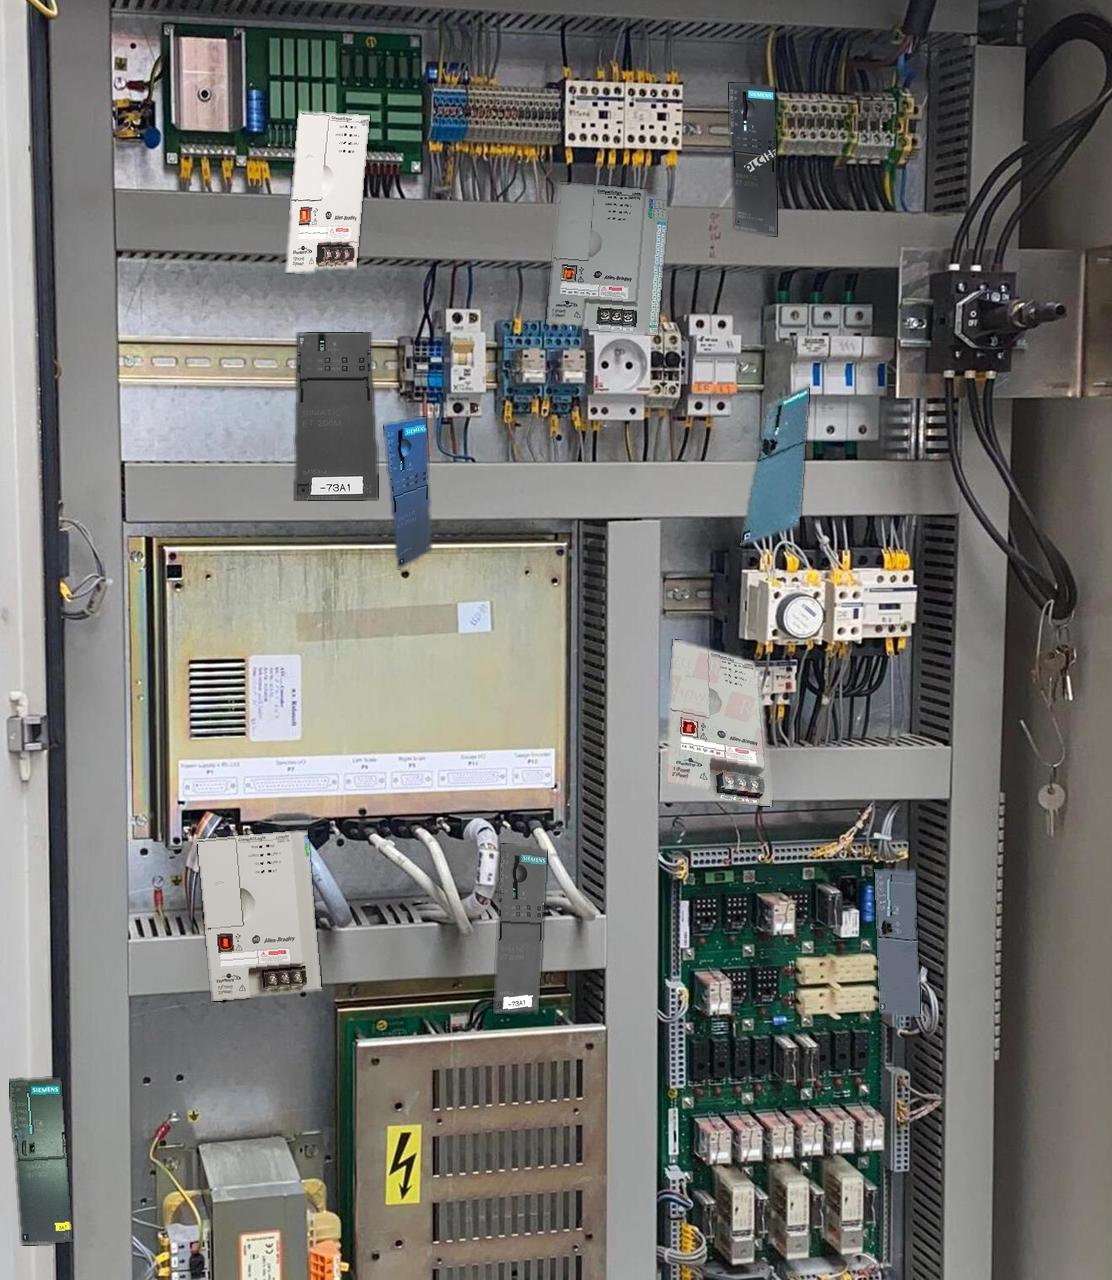AllenBradley: (197, 830, 321, 1000), (546, 183, 667, 334), (666, 639, 771, 807), (286, 111, 369, 272)
Siemens: (740, 385, 810, 545), (9, 1076, 71, 1244), (874, 869, 921, 1016)
